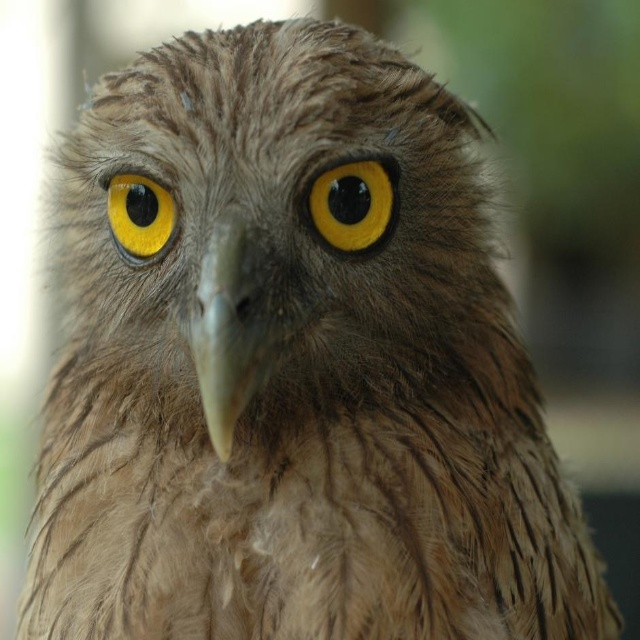Owl: (13, 2, 629, 639)
